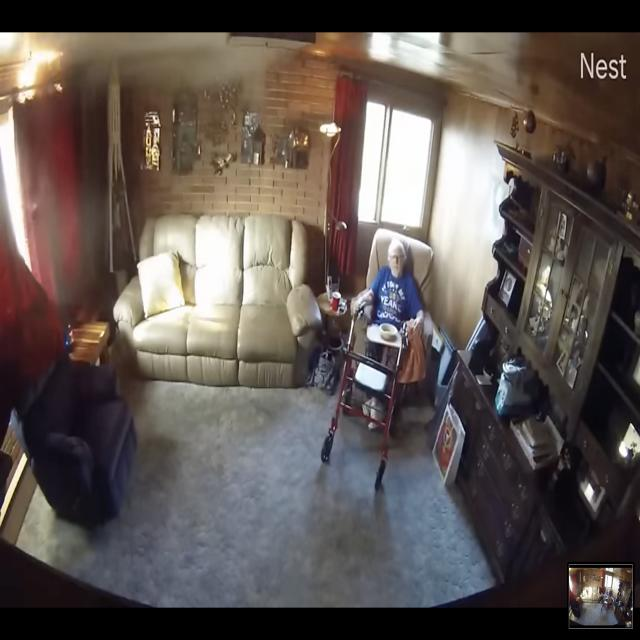Atencao: (22, 38, 280, 278)
